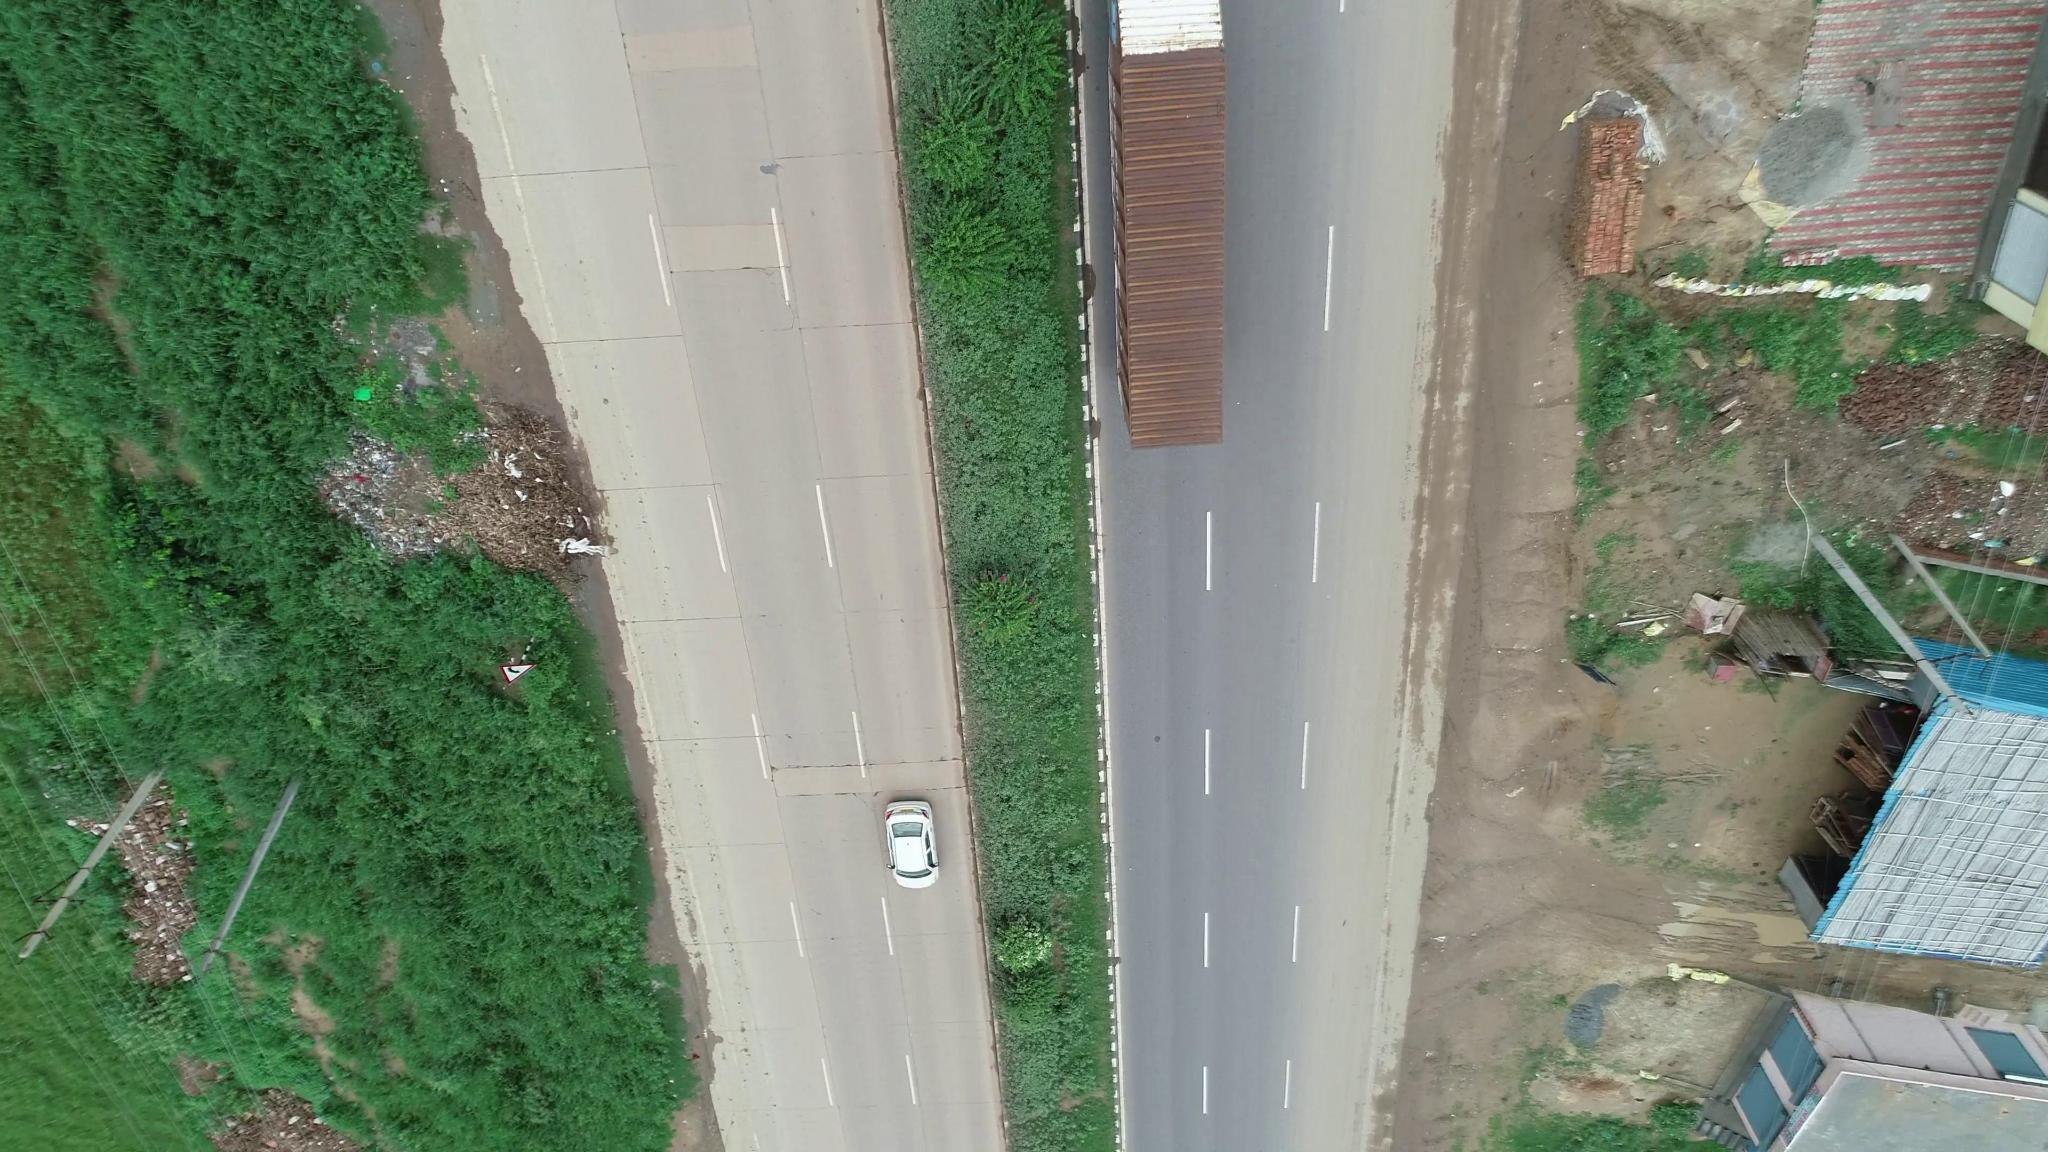Road_side_garbage: (415, 395, 599, 594)
